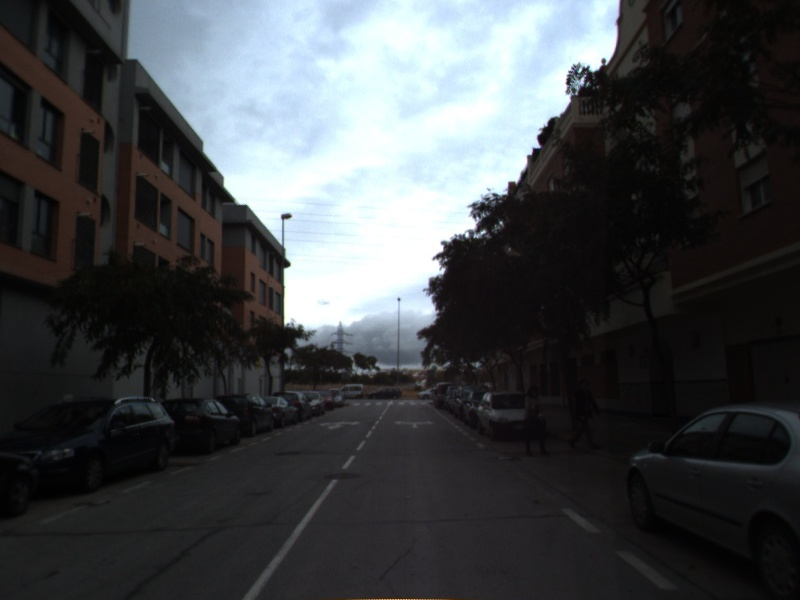LEFT_RIGHT: (392, 418, 438, 430)
